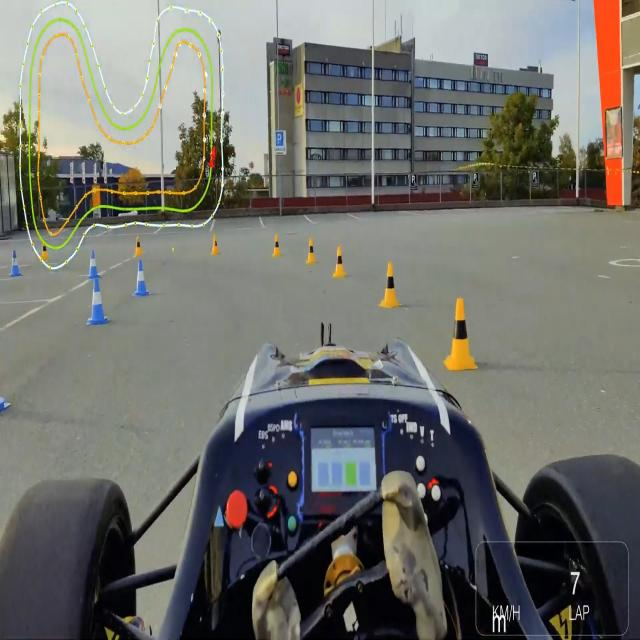blue_cone: (88, 277, 109, 328), (133, 260, 148, 299), (87, 248, 100, 278), (10, 248, 22, 278)
yellow_cone: (445, 298, 475, 371), (380, 262, 400, 308), (332, 245, 347, 278), (306, 238, 318, 266), (272, 232, 282, 258), (40, 238, 49, 262), (210, 236, 220, 255), (134, 236, 143, 257)
